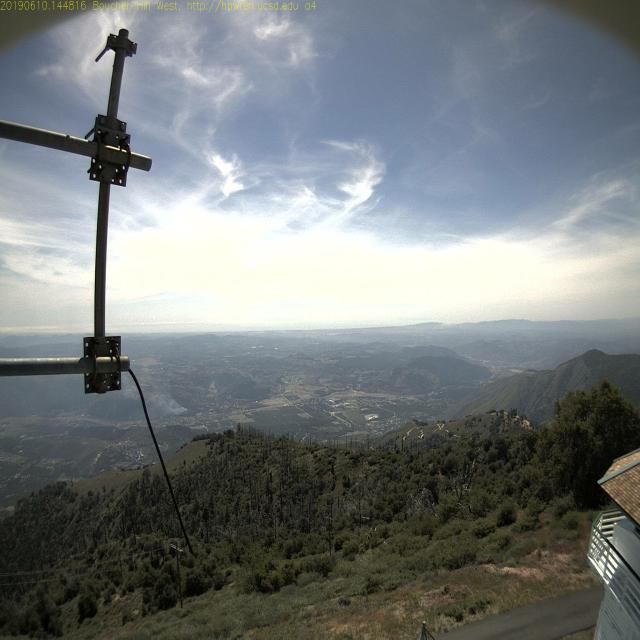smoke: (175, 392, 199, 432)
